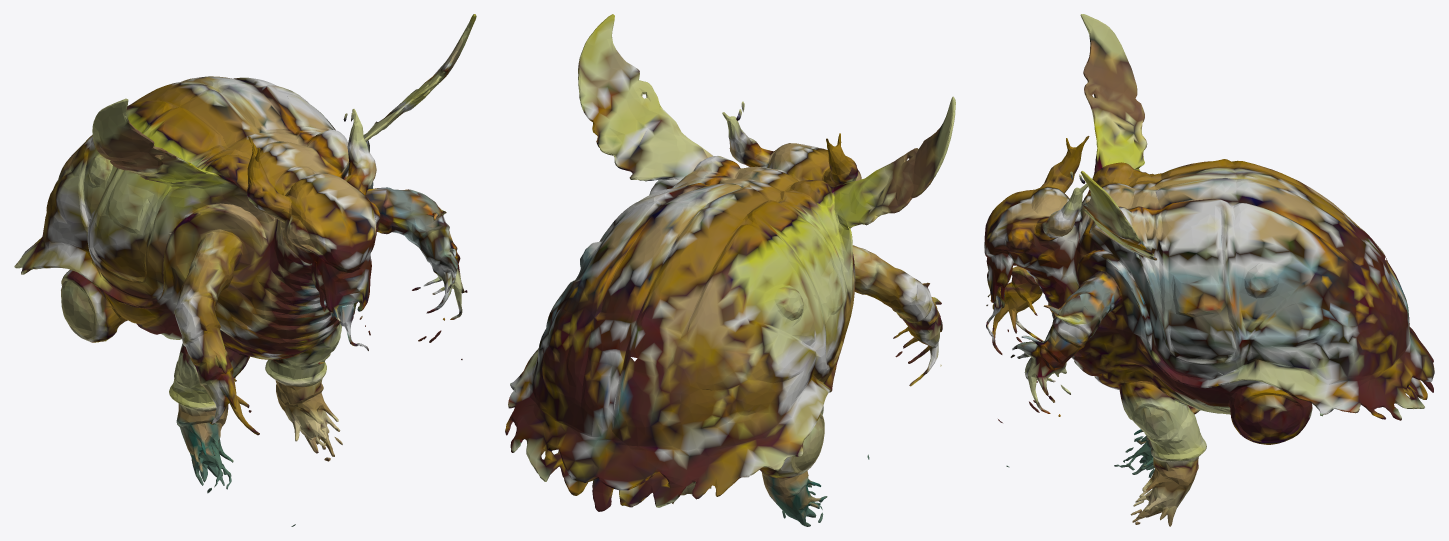
File: lichKing.glb
3 renders of one model, left to right at view 1: azimuth 30°, elevation 25°; view 2: azimuth 150°, elevation 25°; view 3: azimuth 270°, elevation 25°, orthographic. The views are drawn at different scales.
Parts seen in each view (by area): view 1: world; view 2: world; view 3: world.
Part boxes in pixels (x1,y1,x2,y2): world: (14, 14, 476, 526); world: (505, 14, 955, 526); world: (984, 14, 1434, 526).
Size of the model in its own units: 0.8913 by 1 by 1.
